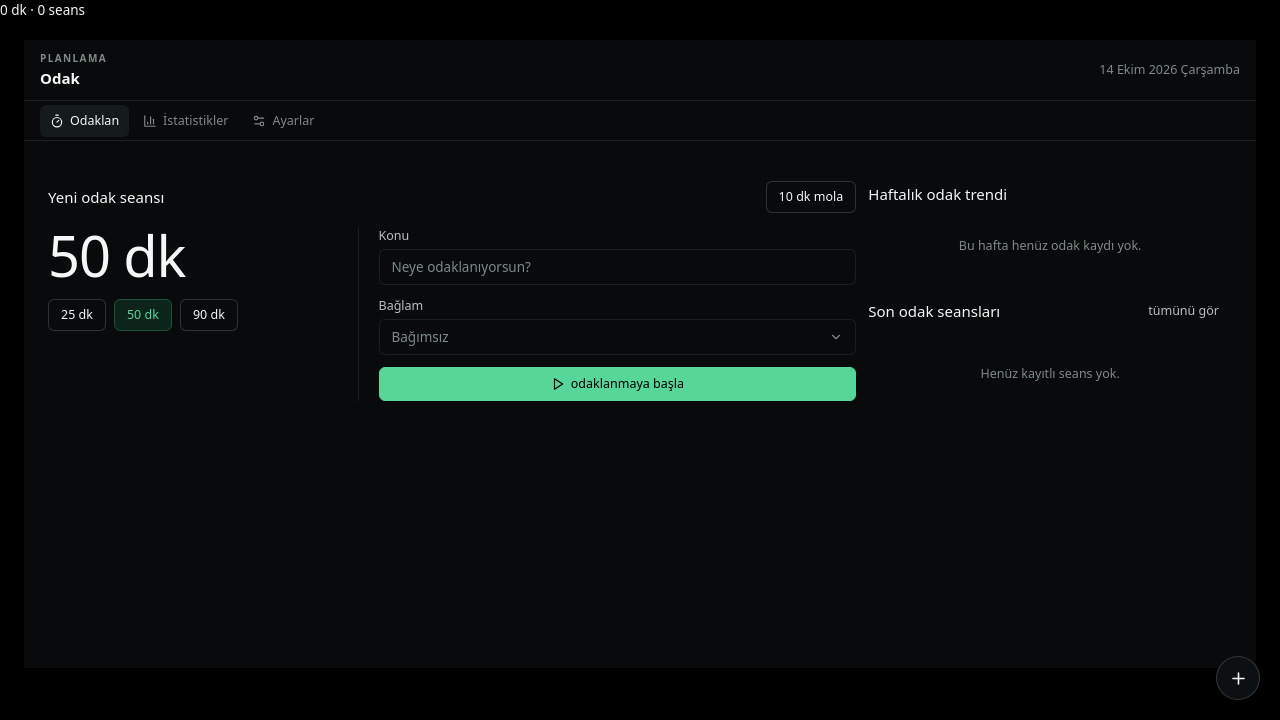
Test: pomodoro capraz yuzey canli senkron › sayfadan baslatir, dock'tan duraklatir, dock'tan tamamlar -- reload olmadan
Expected: the button named "Hızlı işlem menüsünü aç" is shown, [1216, 656, 1260, 700]
Expected: the text with test id "today-stats" reads "0 dk · 0 seans", [0, 1, 85, 19]
Click the button "odaklanmaya başla" at (617, 384), box [378, 367, 856, 401]
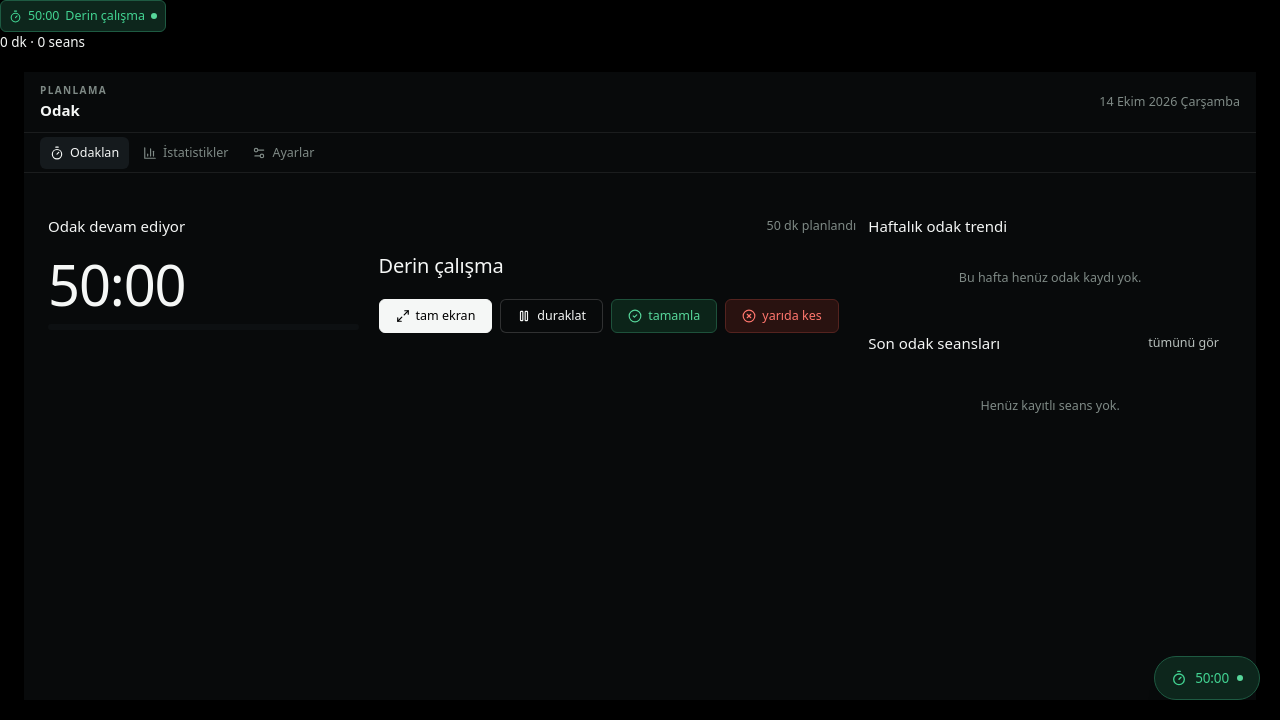
Result: the heading "Odak devam ediyor" is shown at [48, 216, 185, 236]
Result: the button "50:00 Derin çalışma" is shown at [0, 0, 166, 32]
Click the button "50:00" at (1207, 678), box [1154, 656, 1260, 700]
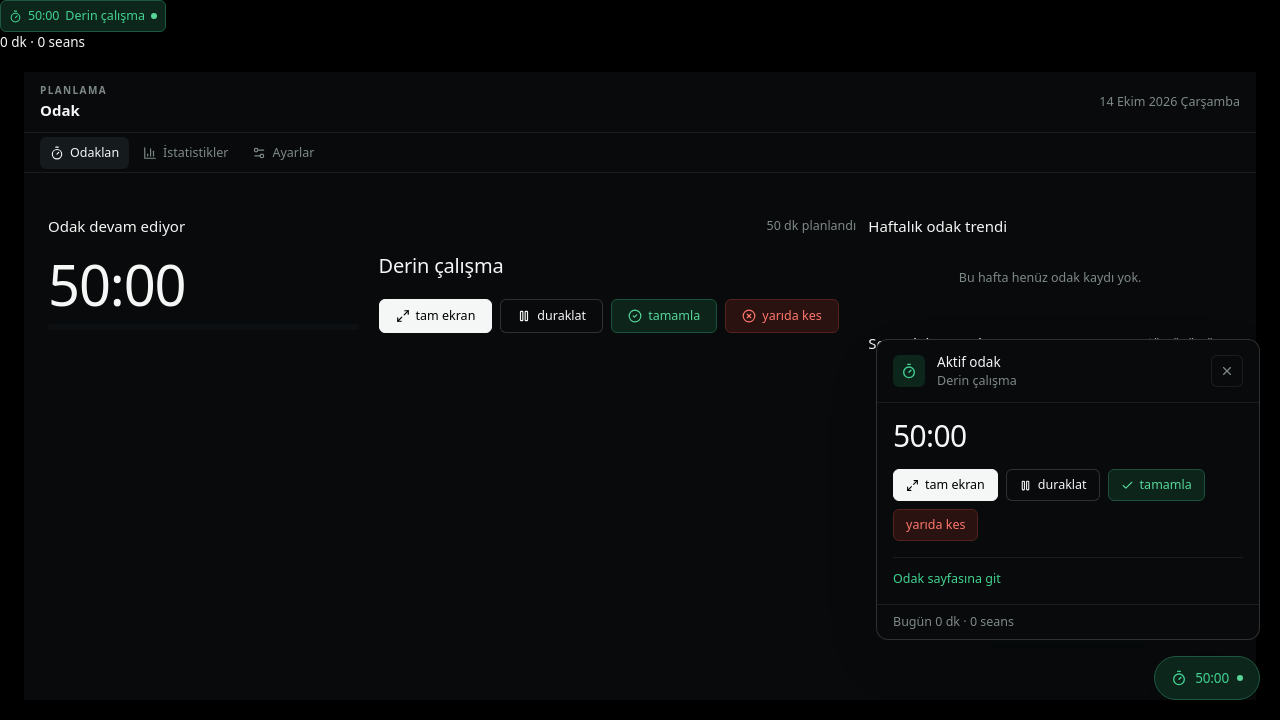
Click the button "duraklat" below "Aktif odak" at (1053, 485), box [1006, 469, 1100, 501]
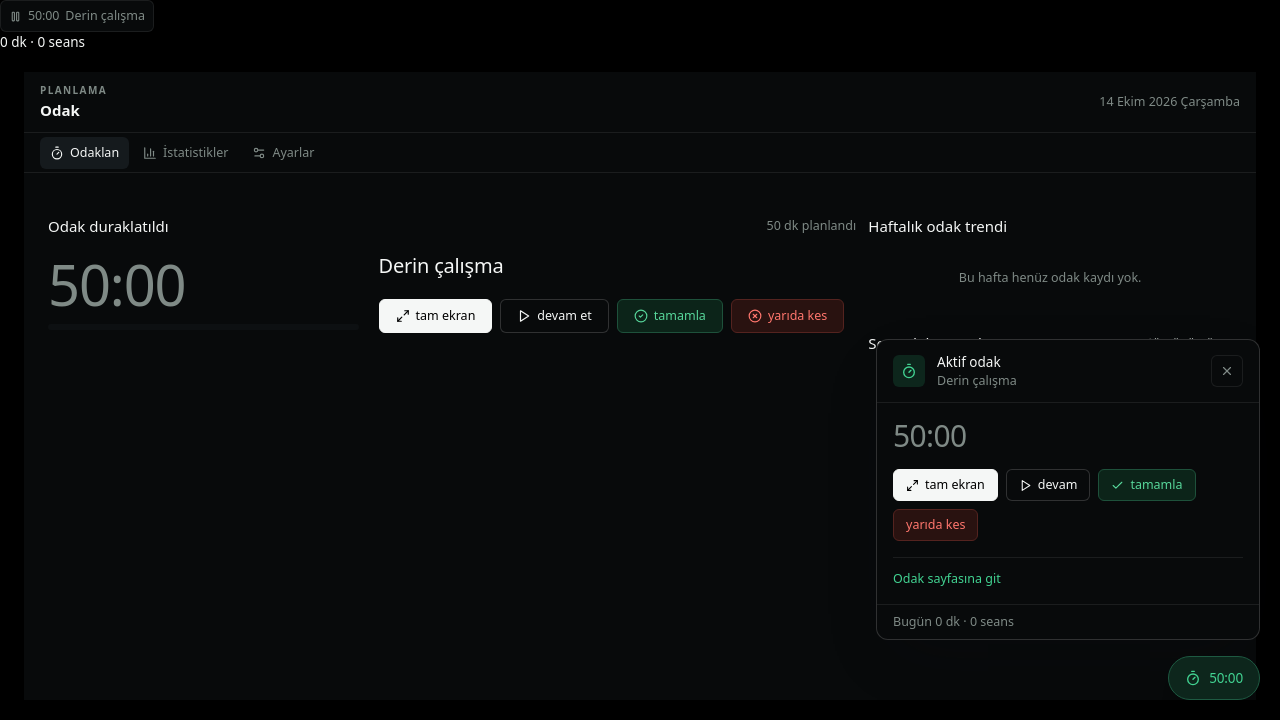
Expected: the button "50:00 Derin çalışma" is shown, [0, 0, 154, 32]
Result: the heading "Odak duraklatıldı" is shown at [48, 216, 169, 236]
Click the button "devam" at (1048, 485), box [1006, 469, 1090, 501]
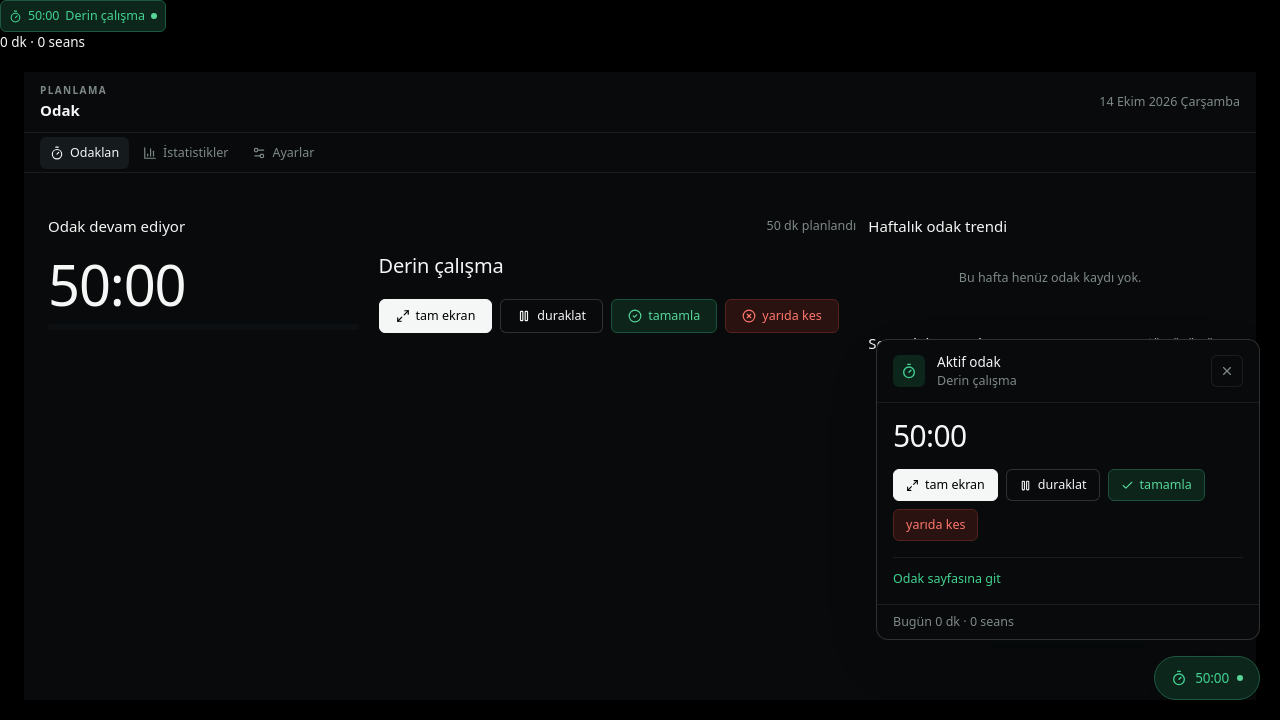
Expected: the button "50:00 Derin çalışma" is shown, [0, 0, 166, 32]
Result: the heading "Odak devam ediyor" is shown at [48, 216, 185, 236]
Click the button "tamamla" below "Aktif odak" at (1156, 485), box [1108, 469, 1205, 501]
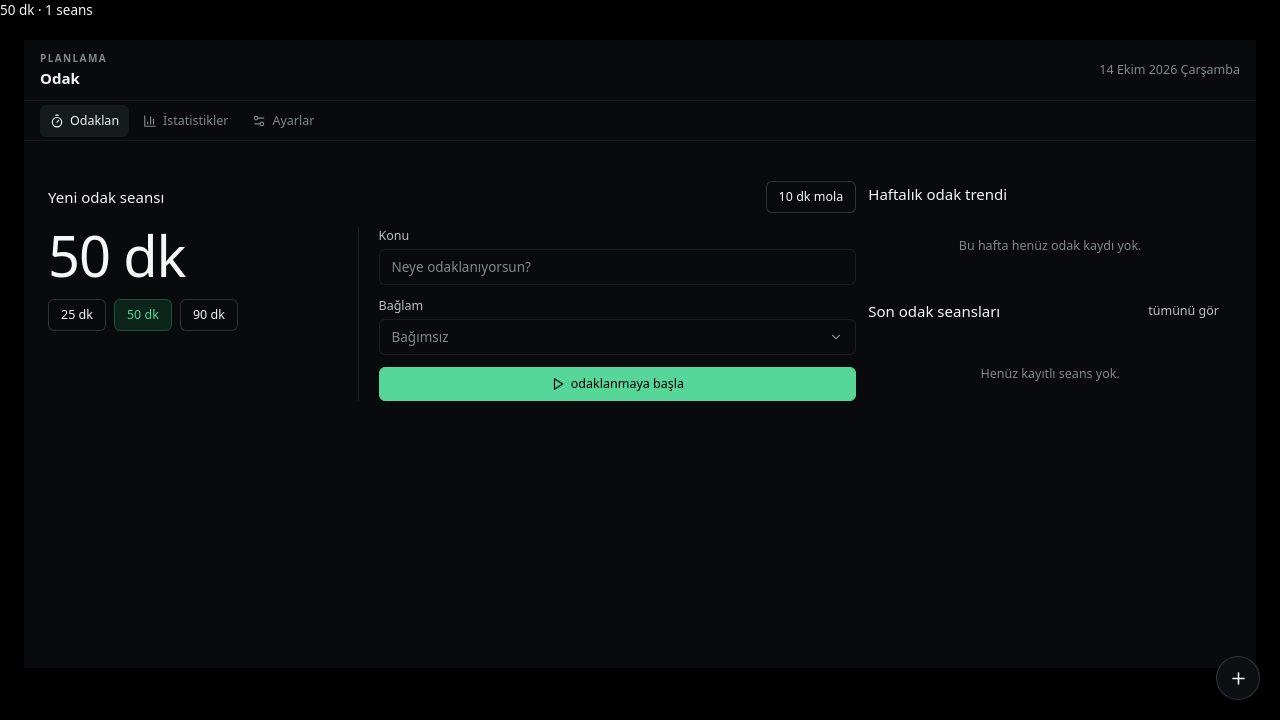
Result: the heading "Yeni odak seansı" is shown at [48, 187, 164, 207]
Result: the button named "Hızlı işlem menüsünü aç" is shown at [1216, 656, 1260, 700]
Result: the text with test id "today-stats" reads "50 dk · 1 seans" at [0, 1, 93, 19]
